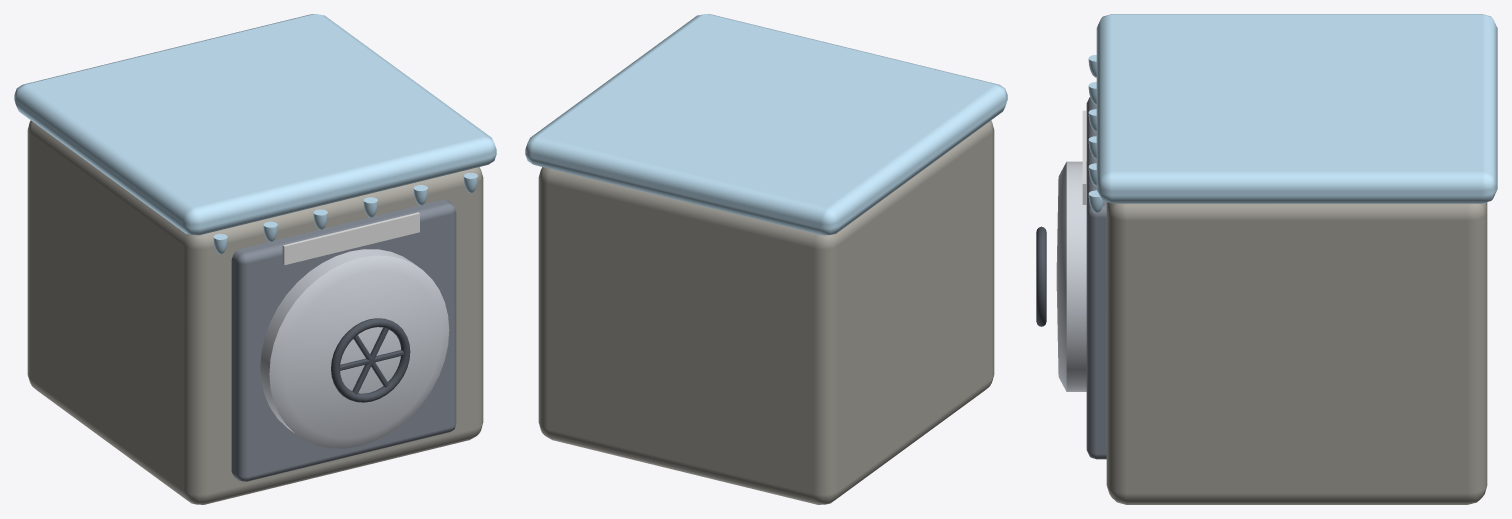
The model's file is SeedVault.fbx.
3 views of the same model, side by side, from view 1: azimuth 30°, elevation 25°; view 2: azimuth 150°, elevation 25°; view 3: azimuth 270°, elevation 25° (orthographic). The views are drawn at different scales.
Parts seen in each view (by area): view 1: Body__Concrete, Body__Ice, Body__Chrome, Body__Steel, Body__MetalDark, Body__Blue!1; view 2: Body__Concrete, Body__Ice; view 3: Body__Concrete, Body__Ice, Body__Chrome, Body__Steel, Body__MetalDark.
Part boxes in pixels (x1,y1,x2,y2): Body__Concrete: (27,120,483,504); Body__Ice: (14,14,496,254); Body__Chrome: (260,249,449,448); Body__Steel: (231,199,456,481); Body__MetalDark: (331,318,410,402); Body__Blue!1: (282,212,419,265); Body__Concrete: (538,120,994,504); Body__Ice: (525,14,1007,235); Body__Concrete: (1106,202,1487,504); Body__Ice: (1088,14,1497,213); Body__Chrome: (1056,161,1086,391); Body__Steel: (1086,97,1106,459); Body__MetalDark: (1036,226,1046,326).
Bounding box in the file's own units: 4 × 4.23 × 4.6.
